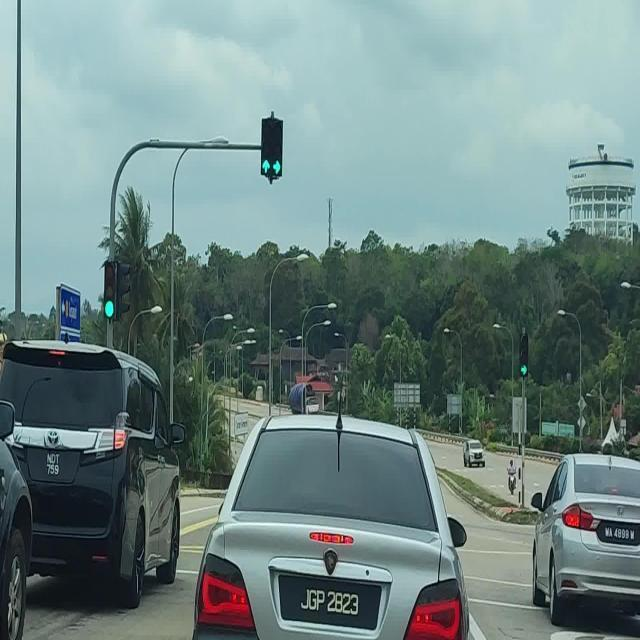green_light: (260, 116, 274, 178), (104, 260, 116, 320), (272, 119, 283, 179), (519, 332, 529, 376)
